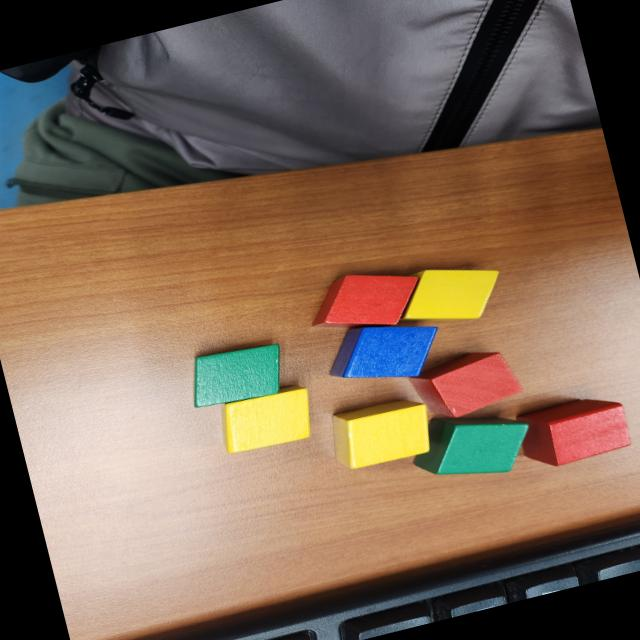blue: (319, 307, 448, 397)
green: (403, 396, 539, 494), (182, 334, 294, 414)
red: (302, 256, 430, 344), (406, 341, 528, 427), (512, 388, 634, 474)
yellow: (391, 252, 512, 338), (331, 392, 436, 474), (215, 382, 322, 458)
